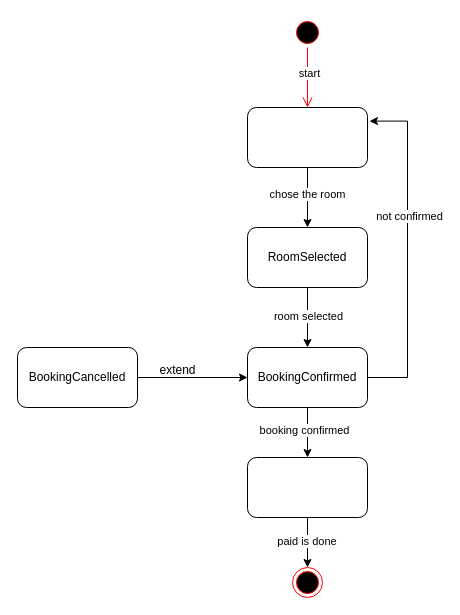
Some shapes in this 460 by 615 pixel diagram are drawn without their labels. The centre of each missing label's shape, as x and y in pixels:
"Idle" goes at (307,137).
"Paid" goes at (307,487).
